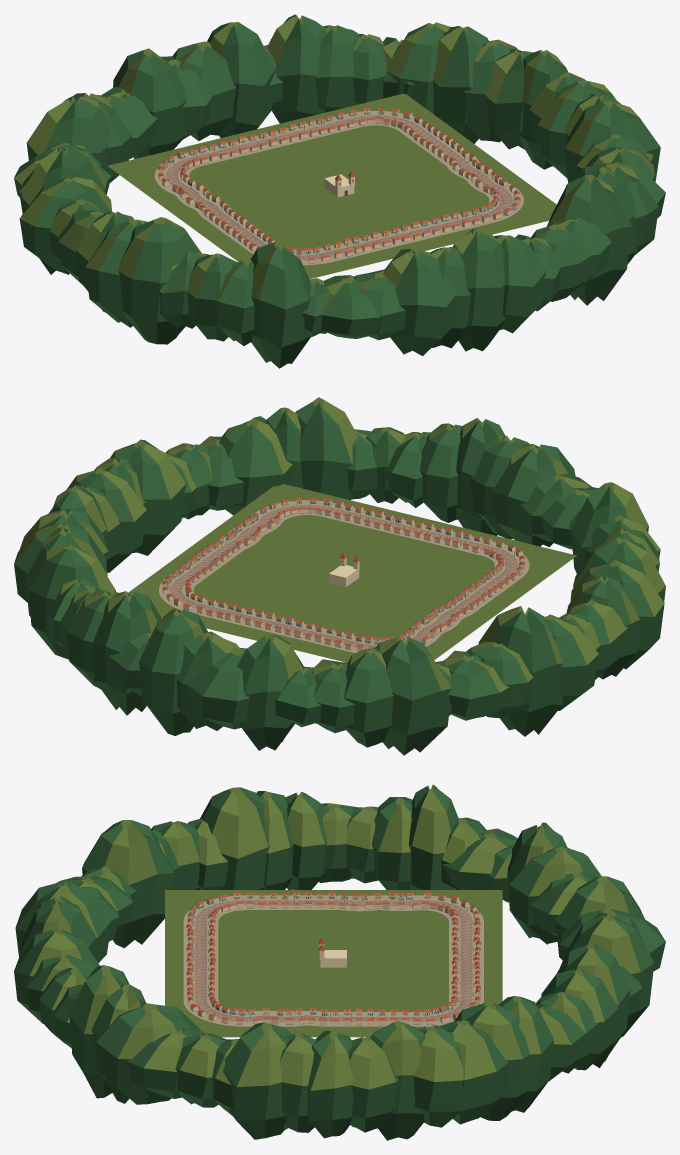
Rendered from Santa_Lucia.glb.
The picture shows the model from 3 angles, top to bottom: view 1: azimuth 30°, elevation 25°; view 2: azimuth 150°, elevation 25°; view 3: azimuth 270°, elevation 25°; orthographic projection.
Parts seen in each view (by area): view 1: Anden, Via; view 2: Anden, Via; view 3: Anden, Via.
Boxes of the visible parts, <box> form: Anden: <box>14,14,665,368</box>; Via: <box>166,116,512,260</box>; Anden: <box>14,397,665,755</box>; Via: <box>170,505,517,649</box>; Anden: <box>14,784,665,1140</box>; Via: <box>195,900,472,1021</box>.
Size of the model in its own units: 565 by 120 by 559.
2 materials, 2 textured.
